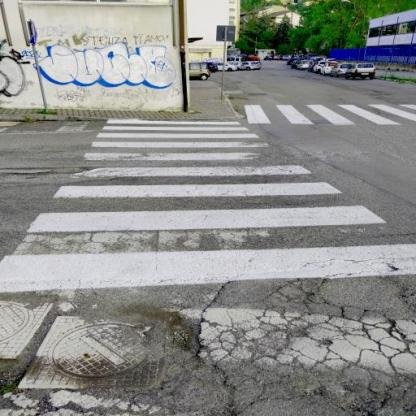crosswalk: (20, 180, 394, 237), (304, 98, 405, 134), (87, 132, 273, 151)
